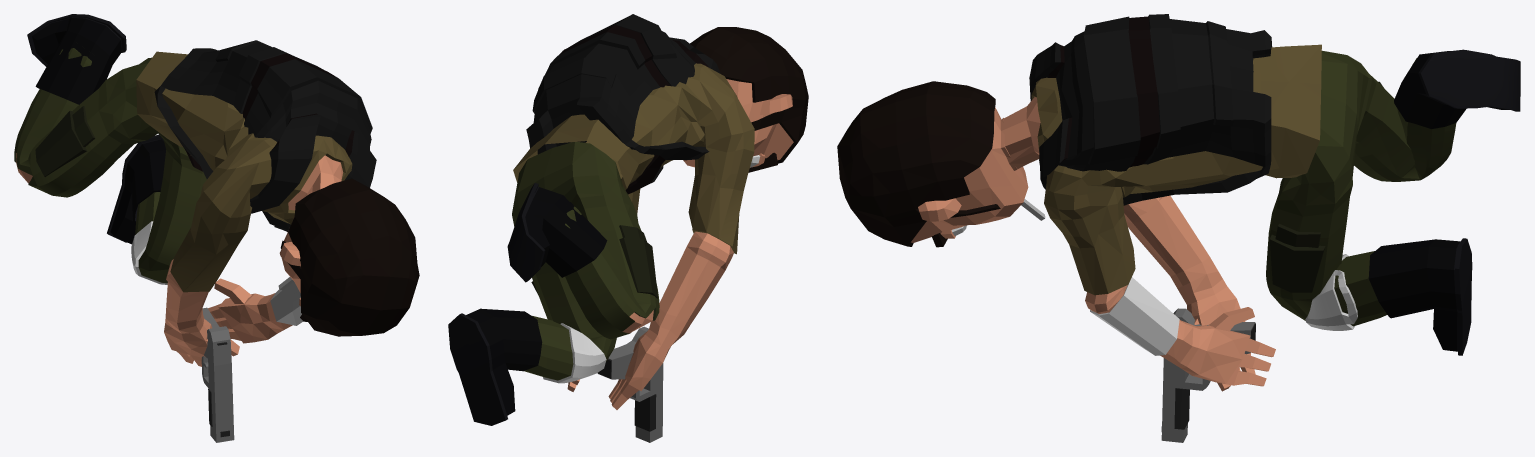
File: frame_0052.obj
The picture shows the model from 3 angles, left to right: view 1: azimuth 30°, elevation 25°; view 2: azimuth 150°, elevation 25°; view 3: azimuth 270°, elevation 25°; orthographic projection. The views are drawn at different scales.
Visible parts, largest first — view 1: Body, Gun; view 2: Body, Gun; view 3: Body, Gun.
Boxes of the visible parts, x1,y1,x2,y2 form: Body: (14, 14, 419, 366); Gun: (201, 307, 234, 442); Body: (448, 14, 808, 425); Gun: (597, 326, 663, 442); Body: (837, 14, 1520, 391); Gun: (1161, 308, 1255, 442).
Size of the model in its own units: 1.43 by 2.4 by 3.39.
